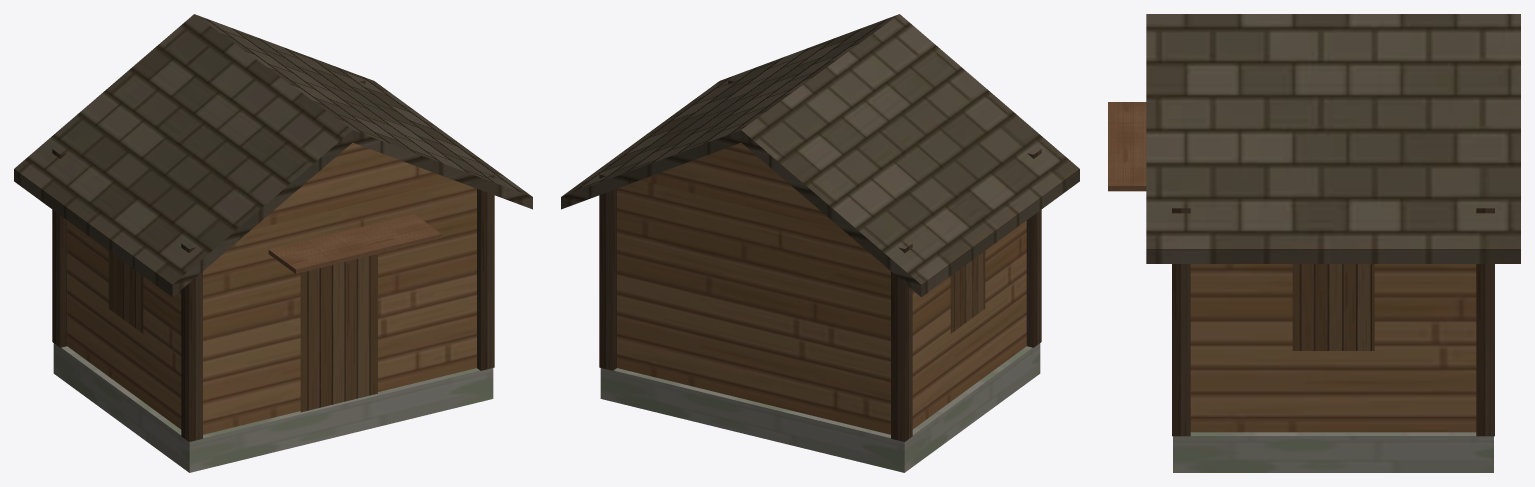
Rendered from ae_forest_wood_small_booth_lod1.glb.
3 views of the same model, side by side, from view 1: azimuth 30°, elevation 25°; view 2: azimuth 150°, elevation 25°; view 3: azimuth 270°, elevation 25° (orthographic). The views are drawn at different scales.
Visible parts, largest first — view 1: ae_forest_wood_small_booth_lod1; view 2: ae_forest_wood_small_booth_lod1; view 3: ae_forest_wood_small_booth_lod1.
Part boxes in pixels (box(x1,y1,x2,y2)): ae_forest_wood_small_booth_lod1: box(14, 14, 532, 472); ae_forest_wood_small_booth_lod1: box(561, 14, 1079, 472); ae_forest_wood_small_booth_lod1: box(1108, 14, 1520, 472).
Bounding box in the file's own units: 4.2 × 3.5 × 3.53.
Materials: 1 (1 with a texture image).
